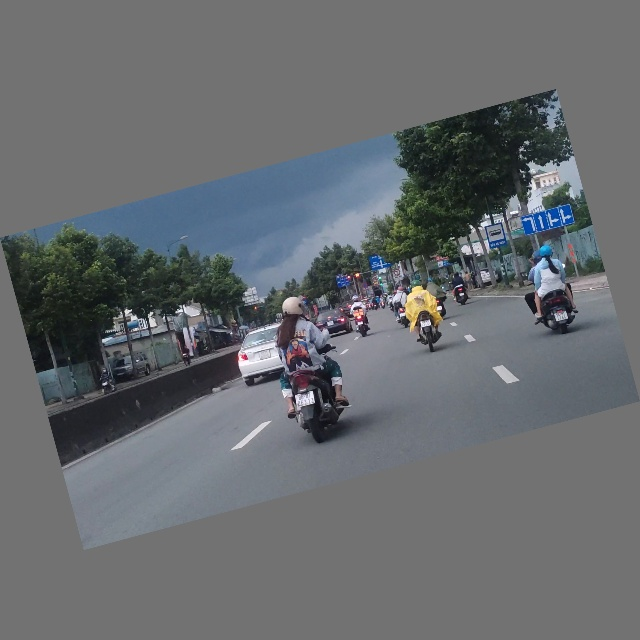I.434a: (484, 223, 508, 249)
P.137: (393, 269, 401, 276)
